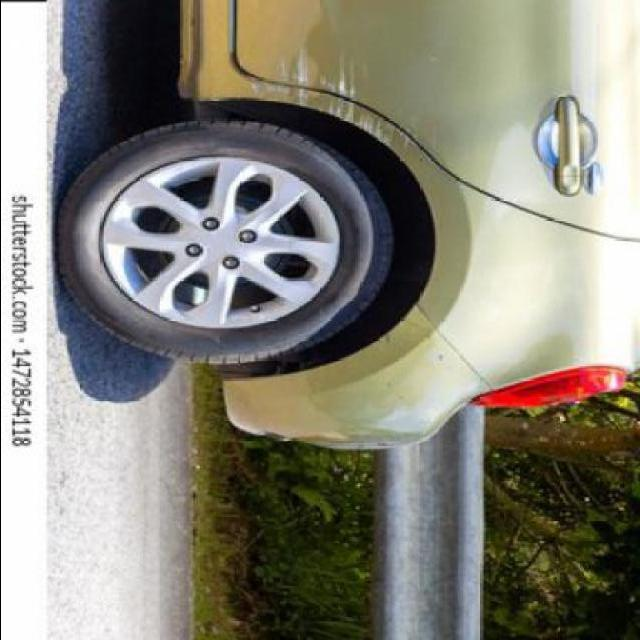quaterpanel-dent: (219, 85, 443, 361)
